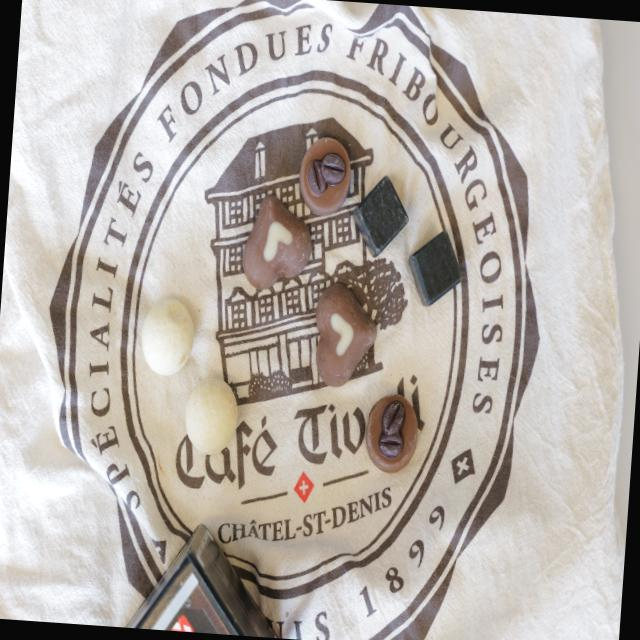Arabia: (364, 392, 420, 474), (298, 134, 350, 216)
Comtesse: (139, 298, 196, 380), (182, 376, 240, 454)
Passion_au_lait: (311, 282, 380, 389), (240, 195, 315, 293)
